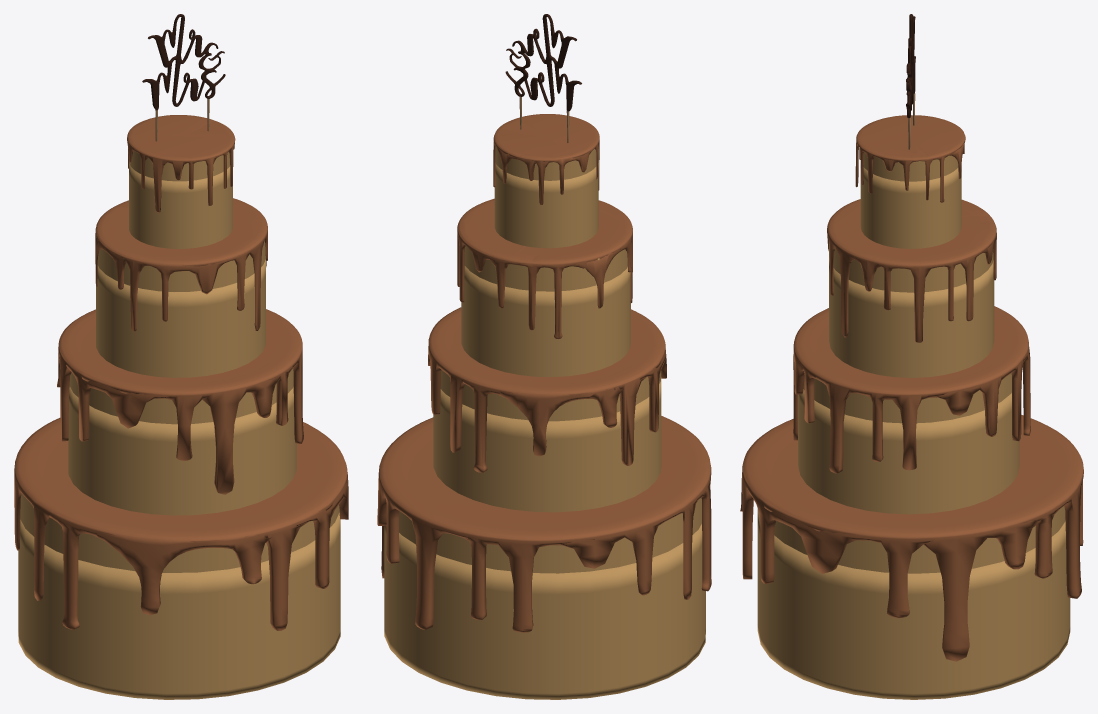
Rendered from 4-tier-caramel-ganache-mrms.glb.
3 renders of one model, left to right at view 1: azimuth 30°, elevation 25°; view 2: azimuth 150°, elevation 25°; view 3: azimuth 270°, elevation 25°, orthographic.
Visible parts, largest first — view 1: 3.001, tHE ICING.008, 3, 2, tHE ICING.007, tHE ICING.006, 1, tHE ICING.009, mrms.004; view 2: 3.001, tHE ICING.008, 3, 2, tHE ICING.007, tHE ICING.006, 1, tHE ICING.009, mrms.004; view 3: 3.001, tHE ICING.008, 3, 2, tHE ICING.007, tHE ICING.006, 1, tHE ICING.009, mrms.004.
Boxes of the visible parts, x1=… form: 3.001: x1=18, y1=494, x2=340, y2=699; tHE ICING.008: x1=14, y1=418, x2=348, y2=630; 3: x1=68, y1=368, x2=296, y2=515; 2: x1=96, y1=235, x2=265, y2=377; tHE ICING.007: x1=57, y1=309, x2=303, y2=494; tHE ICING.006: x1=95, y1=198, x2=267, y2=331; 1: x1=129, y1=151, x2=232, y2=248; tHE ICING.009: x1=127, y1=115, x2=235, y2=212; mrms.004: x1=142, y1=14, x2=225, y2=141; 3.001: x1=384, y1=497, x2=705, y2=699; tHE ICING.008: x1=377, y1=416, x2=711, y2=632; 3: x1=433, y1=370, x2=661, y2=512; 2: x1=461, y1=245, x2=630, y2=376; tHE ICING.007: x1=428, y1=307, x2=666, y2=472; tHE ICING.006: x1=457, y1=198, x2=632, y2=339; 1: x1=494, y1=146, x2=598, y2=248; tHE ICING.009: x1=493, y1=114, x2=599, y2=204; mrms.004: x1=505, y1=14, x2=581, y2=142; 3.001: x1=757, y1=506, x2=1070, y2=699; tHE ICING.008: x1=740, y1=415, x2=1083, y2=661; 3: x1=798, y1=373, x2=1019, y2=514; 2: x1=829, y1=242, x2=994, y2=377; tHE ICING.007: x1=793, y1=306, x2=1030, y2=473; tHE ICING.006: x1=827, y1=199, x2=996, y2=342; 1: x1=860, y1=152, x2=961, y2=248; tHE ICING.009: x1=855, y1=115, x2=965, y2=202; mrms.004: x1=906, y1=14, x2=915, y2=149.
Bounding box in the file's own units: 4.52 × 9.28 × 4.69.
